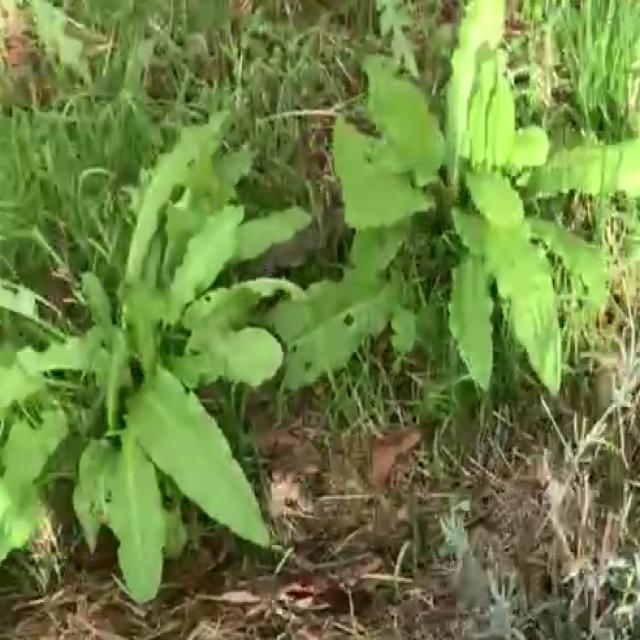organic waste: (0, 133, 333, 640), (266, 0, 640, 379)
